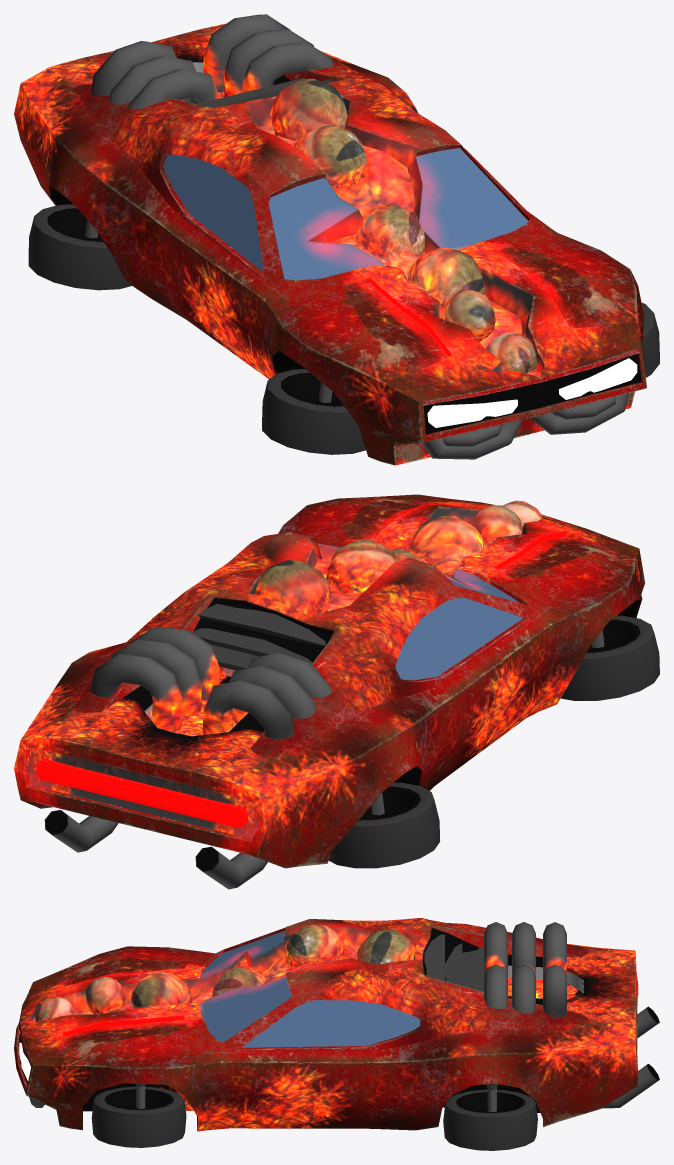
The model's file is HoverCarMutate.fbx.
3 renders of one model, top to bottom at view 1: azimuth 30°, elevation 25°; view 2: azimuth 150°, elevation 25°; view 3: azimuth 270°, elevation 25°, orthographic. The views are drawn at different scales.
Visible parts, largest first — view 1: HovercarMutate, HovercarMutateW-FR, HovercarMutateW-BR, HovercarMutateW-FL; view 2: HovercarMutate, HovercarMutateW-BR, HovercarMutateW-FR; view 3: HovercarMutate, HovercarMutateW-BL, HovercarMutateW-FL.
Part boxes in pixels (x1,y1,x2,y2): HovercarMutate: (14,14,646,465); HovercarMutateW-FR: (262,369,365,454); HovercarMutateW-BR: (28,204,131,290); HovercarMutateW-FL: (641,302,659,377); HovercarMutate: (14,494,644,889); HovercarMutateW-BR: (329,782,440,868); HovercarMutateW-FR: (560,615,659,700); HovercarMutate: (14,918,659,1131); HovercarMutateW-BL: (443,1084,537,1150); HovercarMutateW-FL: (91,1083,186,1147).
Bounding box in the file's own units: 266 × 131 × 483.
